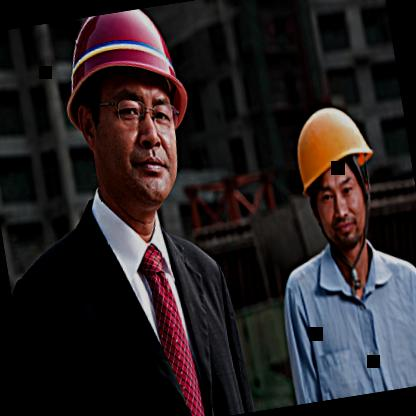helmet: (39, 1, 216, 238), (272, 70, 406, 277)
